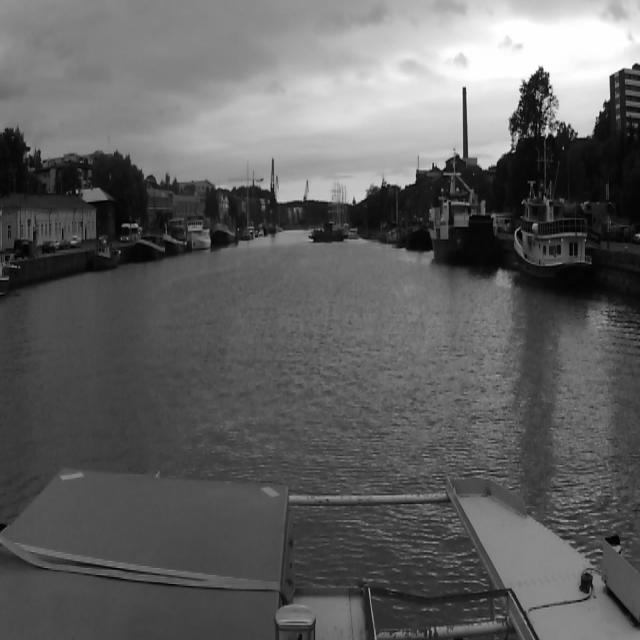ship: (512, 184, 594, 284), (429, 199, 481, 263), (185, 218, 211, 250), (95, 238, 122, 268), (168, 214, 184, 258), (130, 240, 166, 259), (379, 221, 406, 242), (314, 220, 342, 238), (242, 219, 256, 233)
